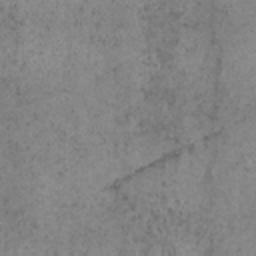Finishing roll printing: (95, 141, 198, 192), (201, 128, 224, 140)
